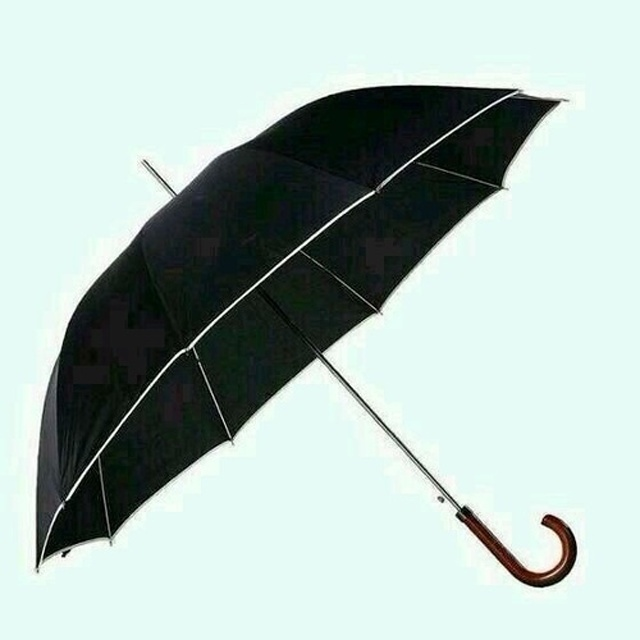umbrella: (32, 80, 584, 595)
